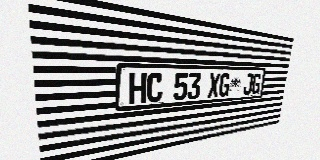3: (187, 73, 201, 99)
5: (173, 73, 189, 101)
C: (146, 73, 163, 103)
G: (218, 73, 231, 97), (251, 74, 262, 94)
H: (129, 73, 147, 104)
J: (243, 74, 254, 95)
X: (207, 73, 220, 98)
